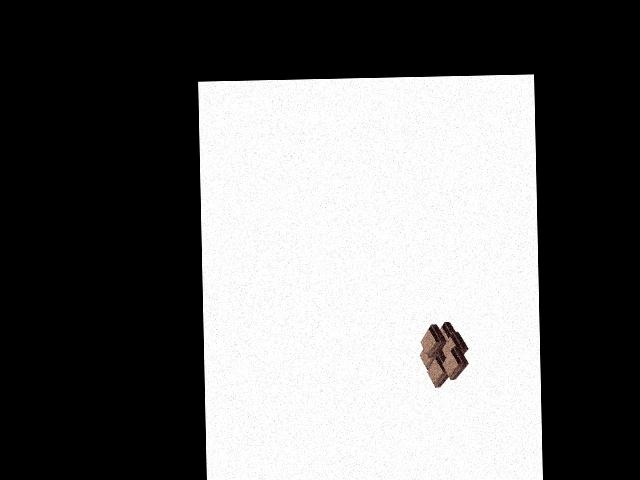chocolate: (417, 319, 467, 387)
